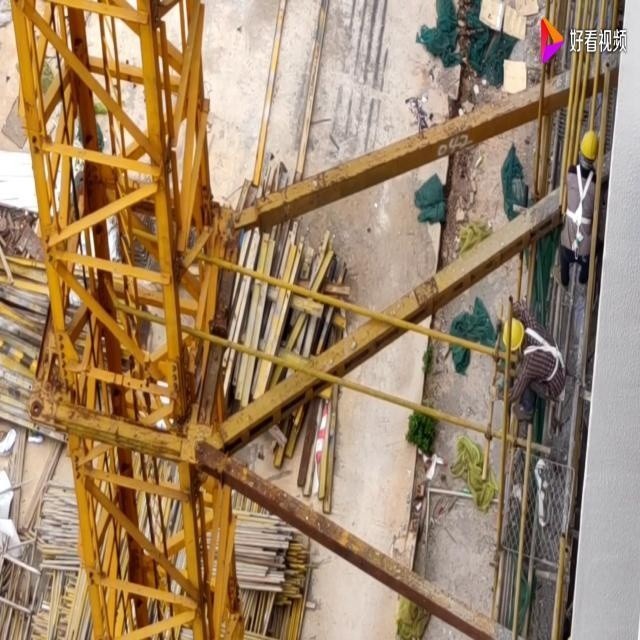Arnes_seguridad: (520, 318, 567, 385), (564, 156, 596, 233)
